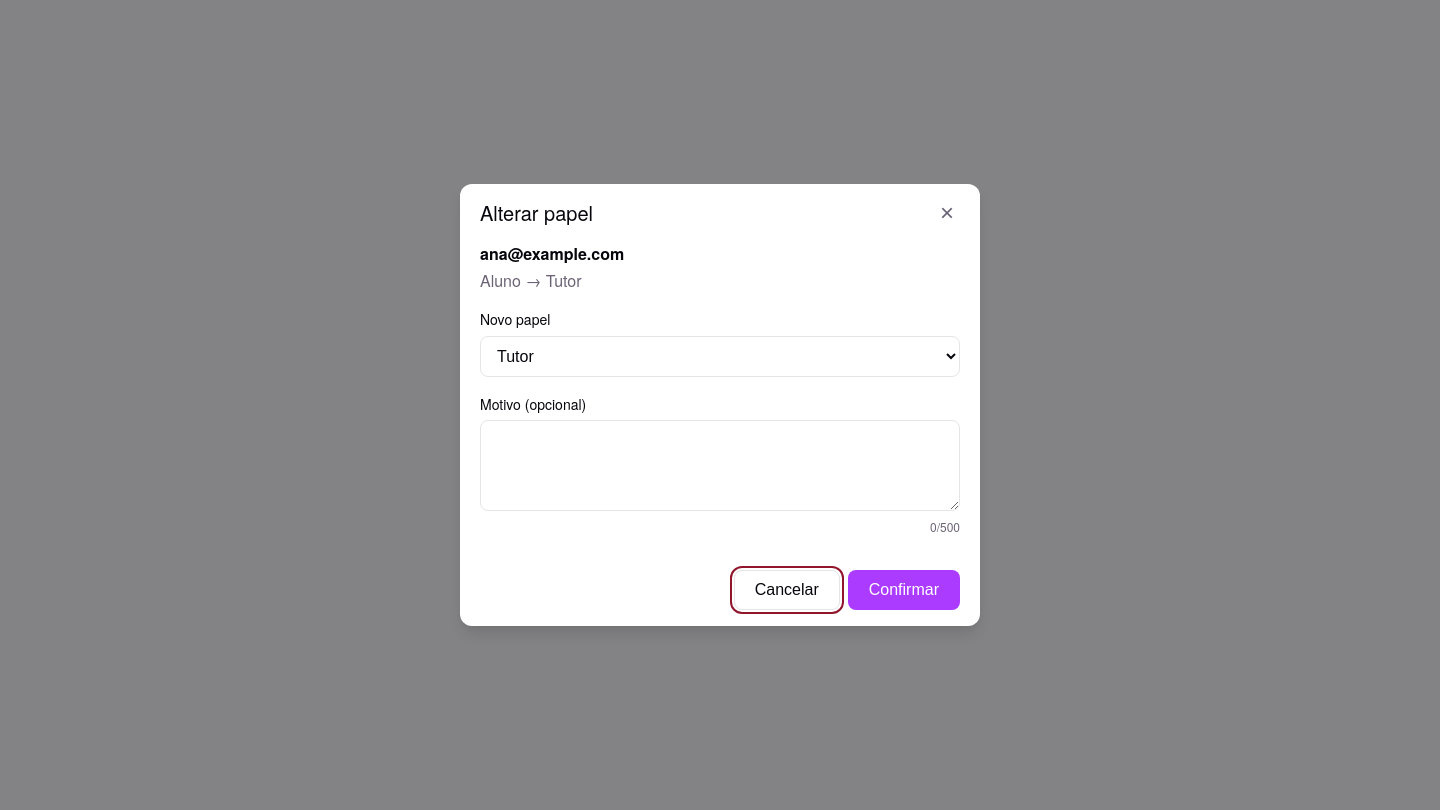
Test case: ChangeRoleDialog › shows a reason counter capped at 500 characters
Expected: the text "0/500" is shown, [930,515,960,538]
Type "abc" into the text box labelled "Motivo (opcional)" at (720,465), box [480,420,960,511]
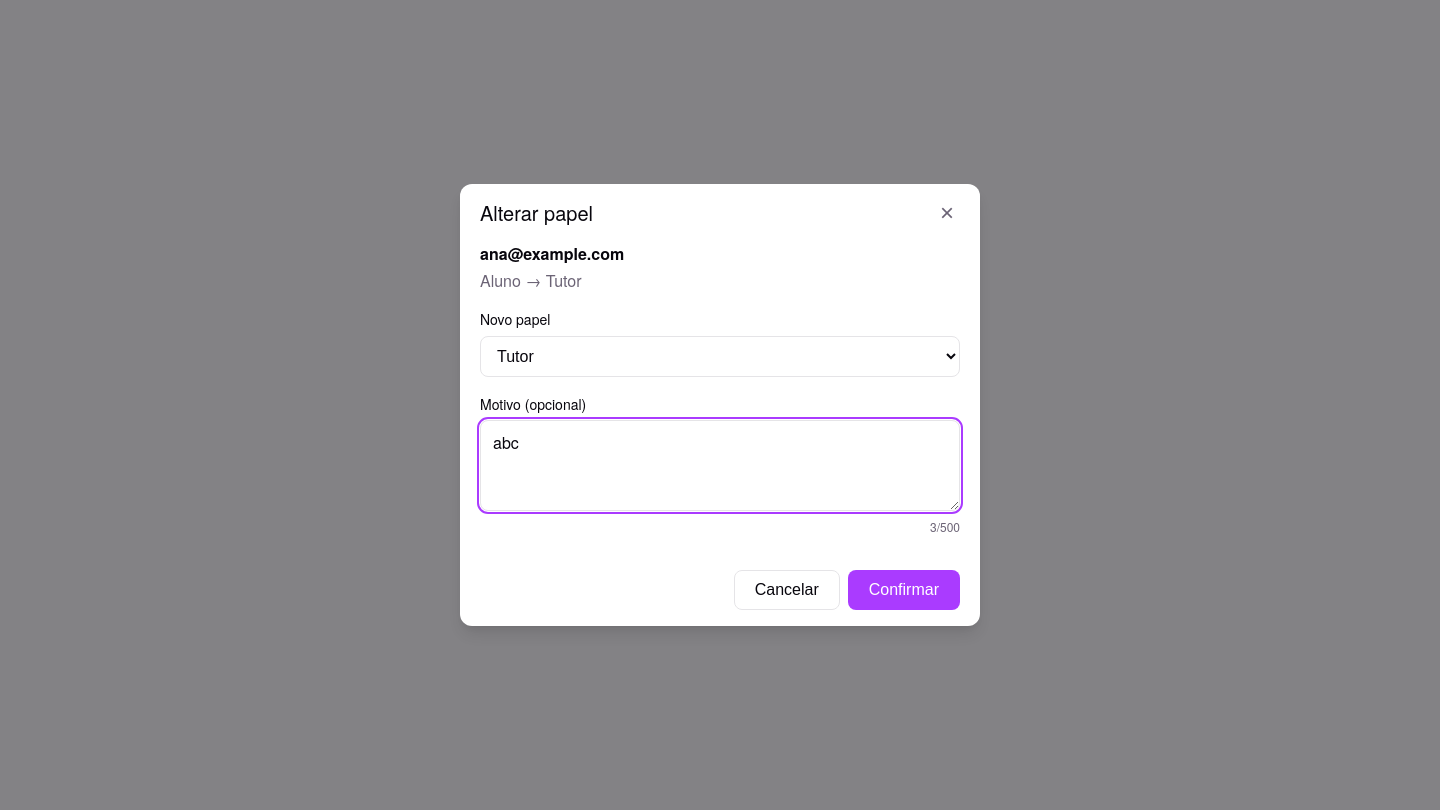
Expected: the text "3/500" is shown, [930,515,960,538]
